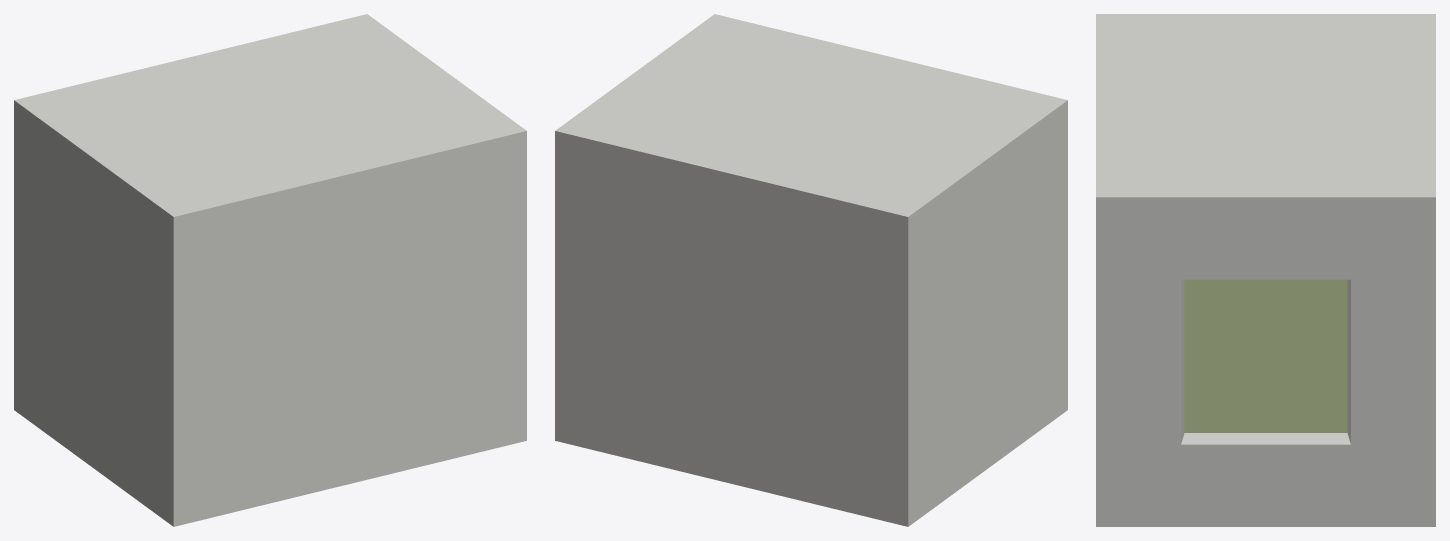
3 views of the same model, side by side, from view 1: azimuth 30°, elevation 25°; view 2: azimuth 150°, elevation 25°; view 3: azimuth 270°, elevation 25° (orthographic). The views are drawn at different scales.
Parts seen in each view (by area): view 1: Cube; view 2: Cube; view 3: Cube, Rectangle.
Part boxes in pixels (<box>): Cube: <box>14,14,526,526</box>; Cube: <box>555,14,1067,526</box>; Cube: <box>1096,14,1435,526</box>; Rectangle: <box>1184,279,1347,432</box>.
Size of the model in its own units: 10 by 8.38 by 7.83.
